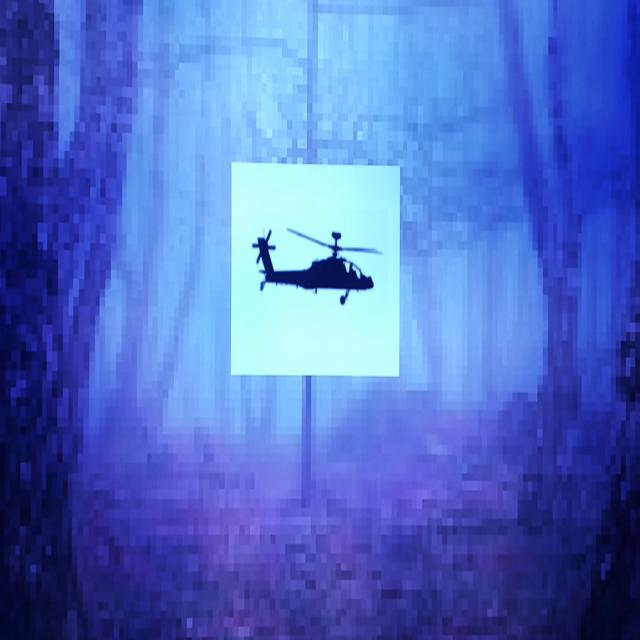Apache friendly: (253, 229, 380, 304)
